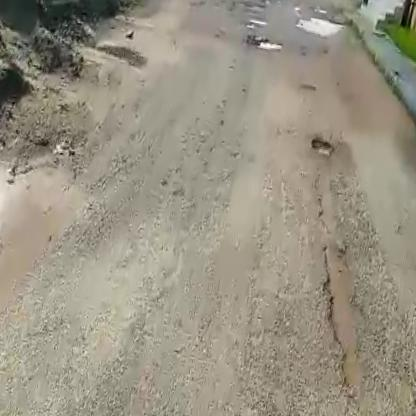pothole: (294, 12, 348, 42), (250, 34, 286, 54), (308, 136, 333, 156)
